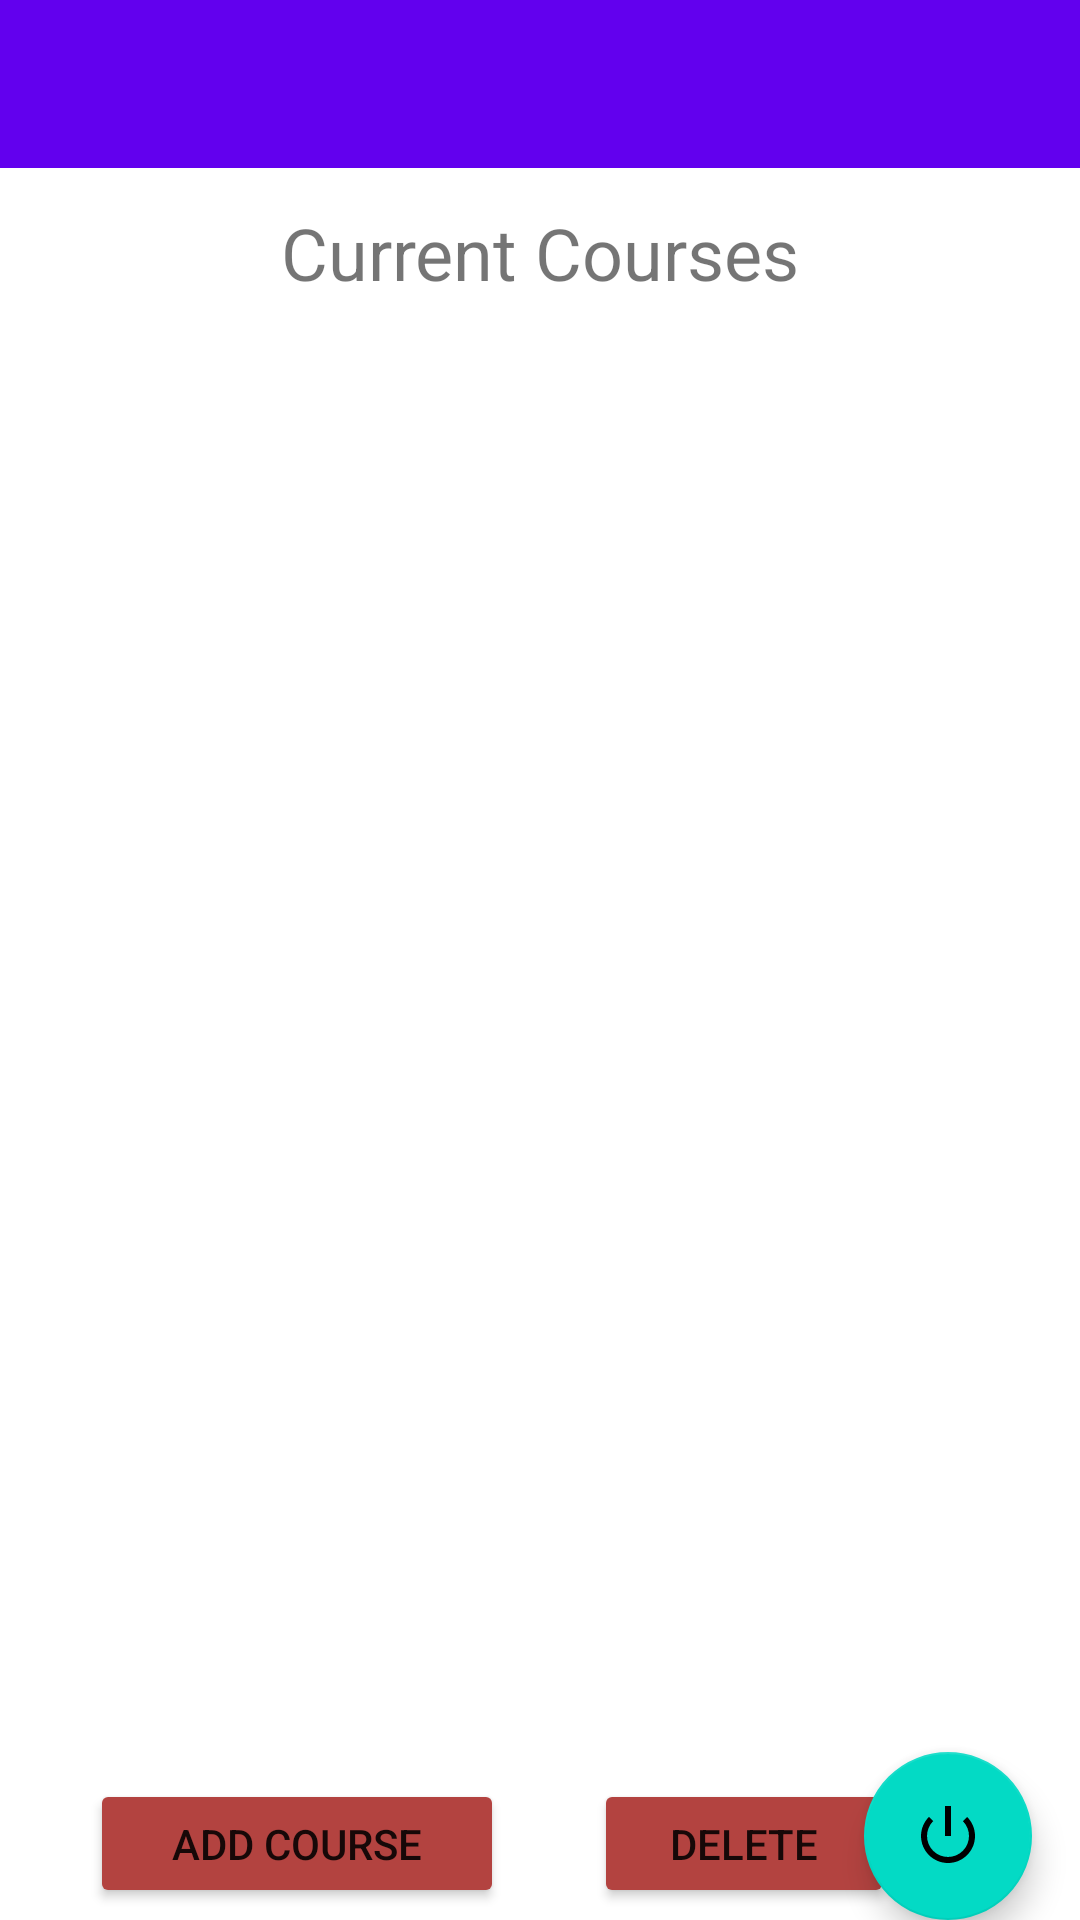

Named icons in this screenshot (1080*1920) and their centers, (x=x, y=y):
lock power off: (x=948, y=1836)
